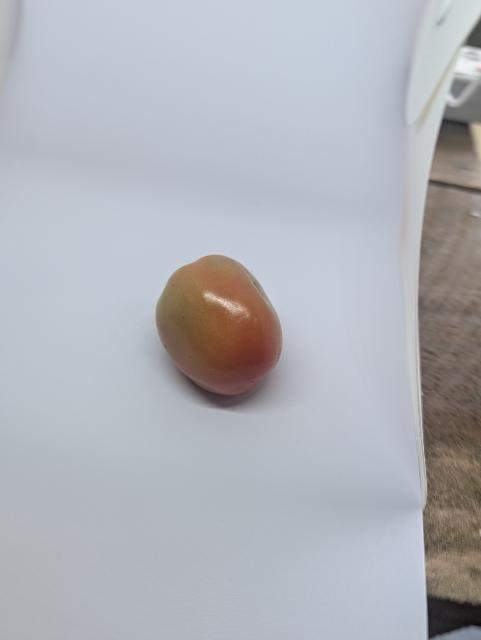turning: (150, 251, 294, 401)
